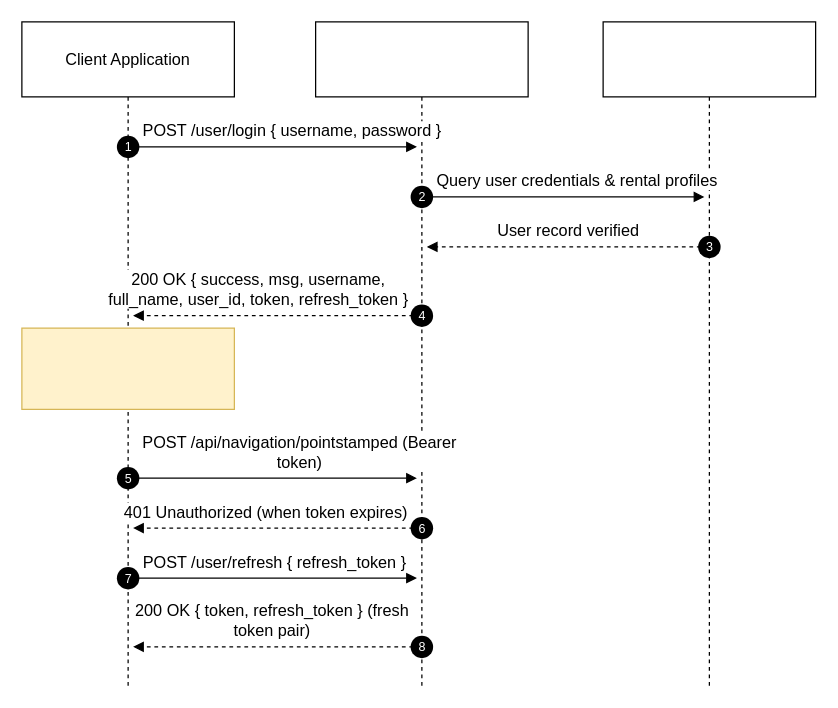
This 838x708 diagram has some shape labels left out. The shapes that lost their labels are listed below. From the top down, each one's box as (x1, y1, x2, y2) in pixels, then its label:
(21, 327, 234, 409): Include token in Bearer header on subsequent calls
(314, 21, 528, 686): backend_node
(602, 21, 816, 686): MySQL Database
